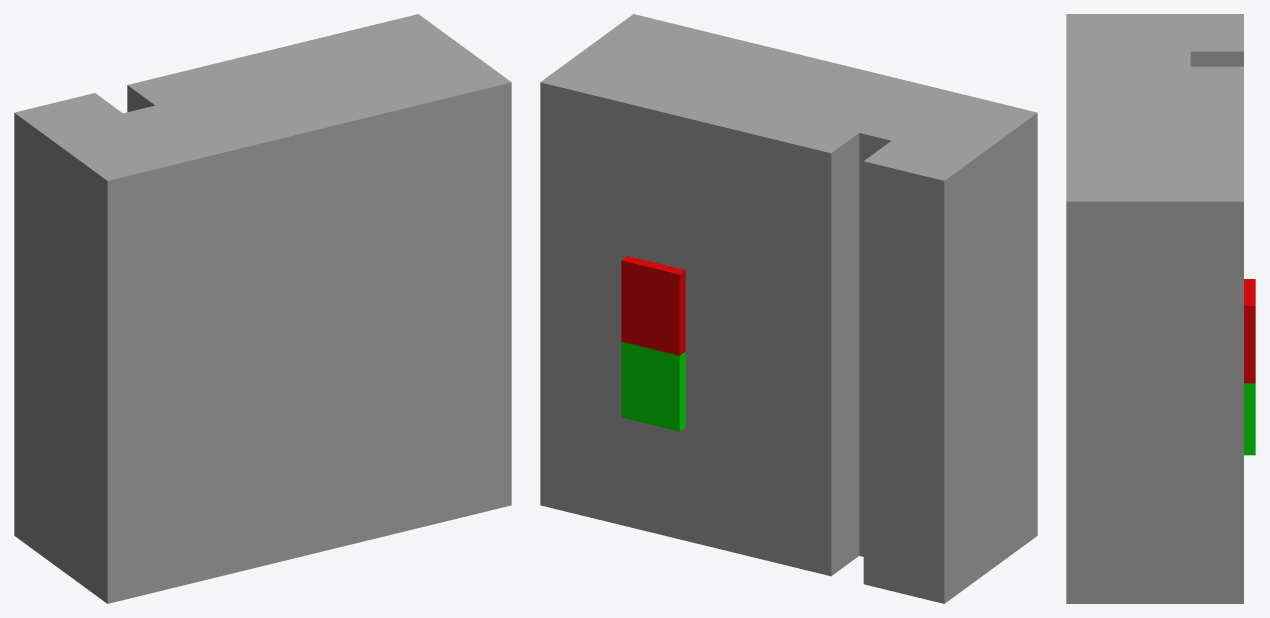
Rendered from lector 1.fbx.
3 views of the same model, side by side, from view 1: azimuth 30°, elevation 25°; view 2: azimuth 150°, elevation 25°; view 3: azimuth 270°, elevation 25° (orthographic). The views are drawn at different scales.
Visible parts, largest first — view 1: polySurface1; view 2: polySurface1, polySurface2, polySurface3; view 3: polySurface1, polySurface2, polySurface3.
Part boxes in pixels (bbox=[...]): polySurface1: bbox=[14, 14, 511, 603]; polySurface1: bbox=[540, 14, 1037, 603]; polySurface2: bbox=[621, 256, 685, 355]; polySurface3: bbox=[621, 341, 685, 431]; polySurface1: bbox=[1066, 14, 1243, 603]; polySurface2: bbox=[1244, 279, 1255, 383]; polySurface3: bbox=[1244, 383, 1255, 455].
Bounding box in the file's own units: 1 × 1 × 0.4261.
